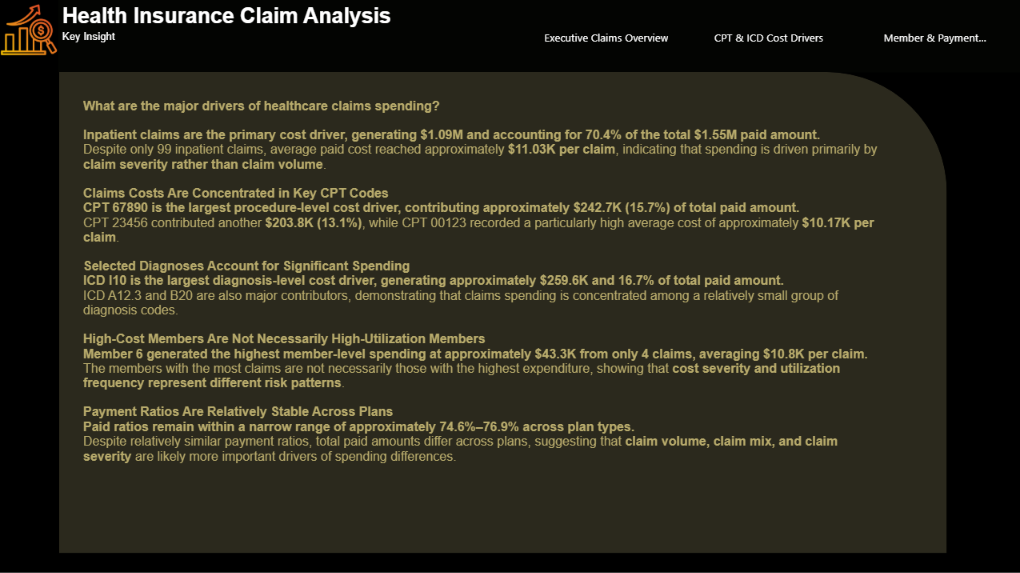

This screenshot's page, from the dashboard's own definition file:
{"tool":"powerbi","page":{"name":"Key Insight","canvas":[1280,720],"ordinal":3},"visuals":[{"type":"group","id":"g1","title":"Group 3","box":[0,0,1280.3,90.6],"z":0},{"type":"textbox","box":[74.1,0,1206.2,90.6],"z":1000,"group":"g1"},{"type":"image","box":[0,0,74.1,74.1],"z":3000,"group":"g1"},{"type":"pageNavigator","box":[662.8,21.4,600.1,51.3],"z":10500},{"type":"shape","box":[74.4,90.1,1109.5,601.6],"z":10501,"group":"g2"},{"type":"textbox","box":[99.6,118.9,1006.2,549.9],"z":10502,"group":"g2"},{"type":"group","id":"g2","title":"Group 1","box":[74.4,90.1,1109.5,601.6],"z":10503}]}

Visuals, with their boxes on the page's 1280x720 design canvas (x1, y1, x2, y2). These are canvas units, not pixel positions in the 1020x573 screenshot, which may show the page scaled, cropped or inside an application window:
"Group 3" group: bbox=(0, 0, 1280, 91)
textbox: bbox=(74, 0, 1280, 91)
image: bbox=(0, 0, 74, 74)
pageNavigator: bbox=(663, 21, 1263, 73)
shape: bbox=(74, 90, 1184, 692)
textbox: bbox=(100, 119, 1106, 669)
"Group 1" group: bbox=(74, 90, 1184, 692)
